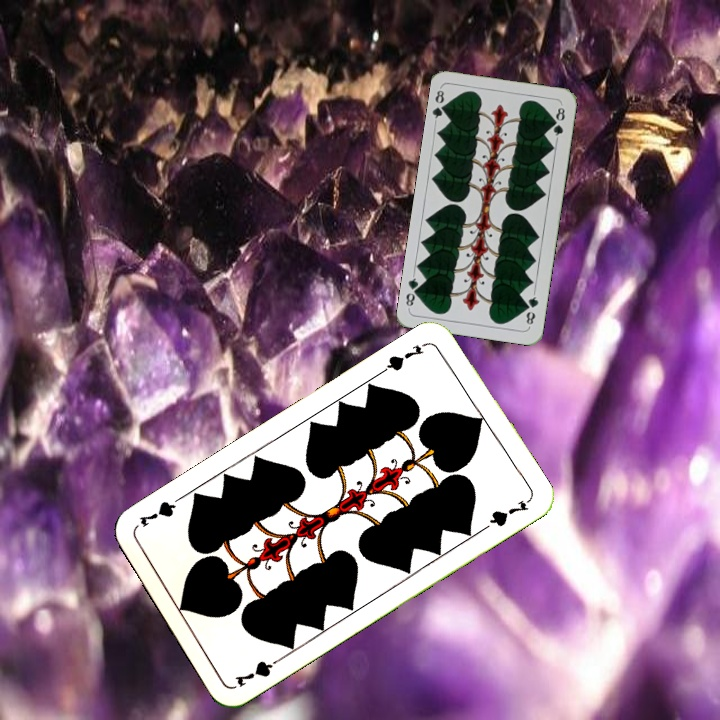G7: (378, 338, 432, 375), (231, 653, 286, 689)
G8: (429, 84, 451, 125), (522, 289, 541, 329)
